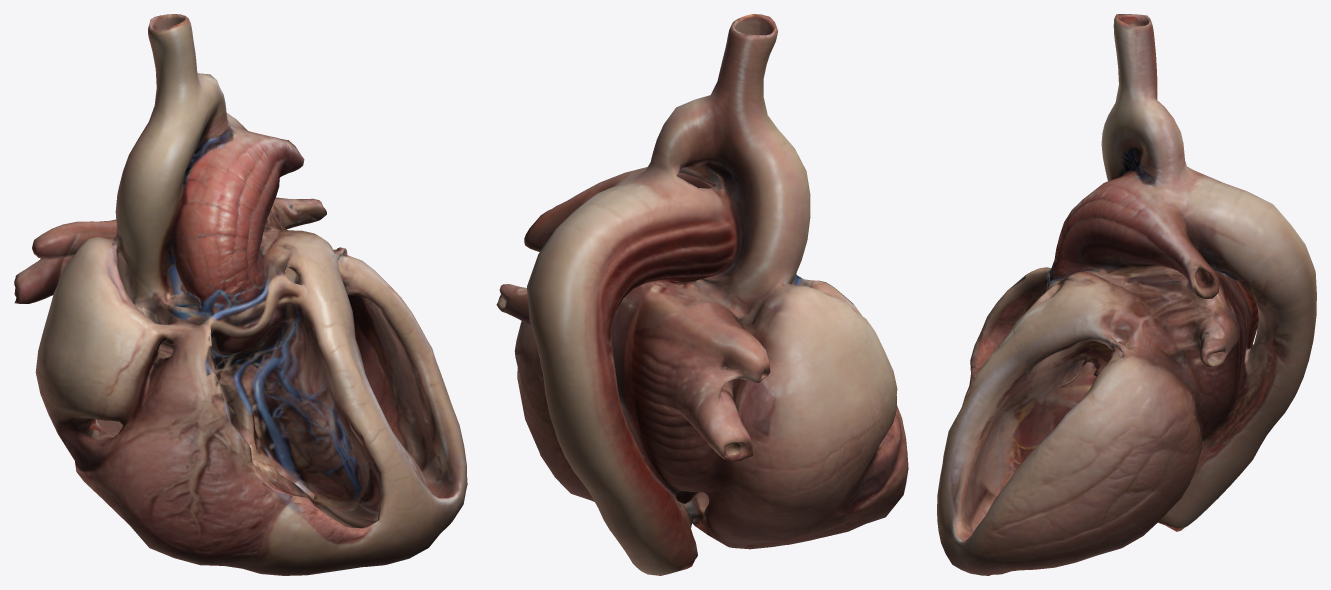
File: heart_3d_-_organ.glb
3 renders of one model, left to right at view 1: azimuth 30°, elevation 25°; view 2: azimuth 150°, elevation 25°; view 3: azimuth 270°, elevation 25°, orthographic. The views are drawn at different scales.
Parts seen in each view (by area): view 1: Mesh1_Mesh1.017; view 2: Mesh1_Mesh1.017; view 3: Mesh1_Mesh1.017.
Part boxes in pixels (x1=…): Mesh1_Mesh1.017: x1=14, y1=14, x2=467, y2=575; Mesh1_Mesh1.017: x1=496, y1=14, x2=908, y2=575; Mesh1_Mesh1.017: x1=937, y1=14, x2=1316, y2=575.
Size of the model in its own units: 1.37 by 1.99 by 1.38.
1 material, 1 textured.
